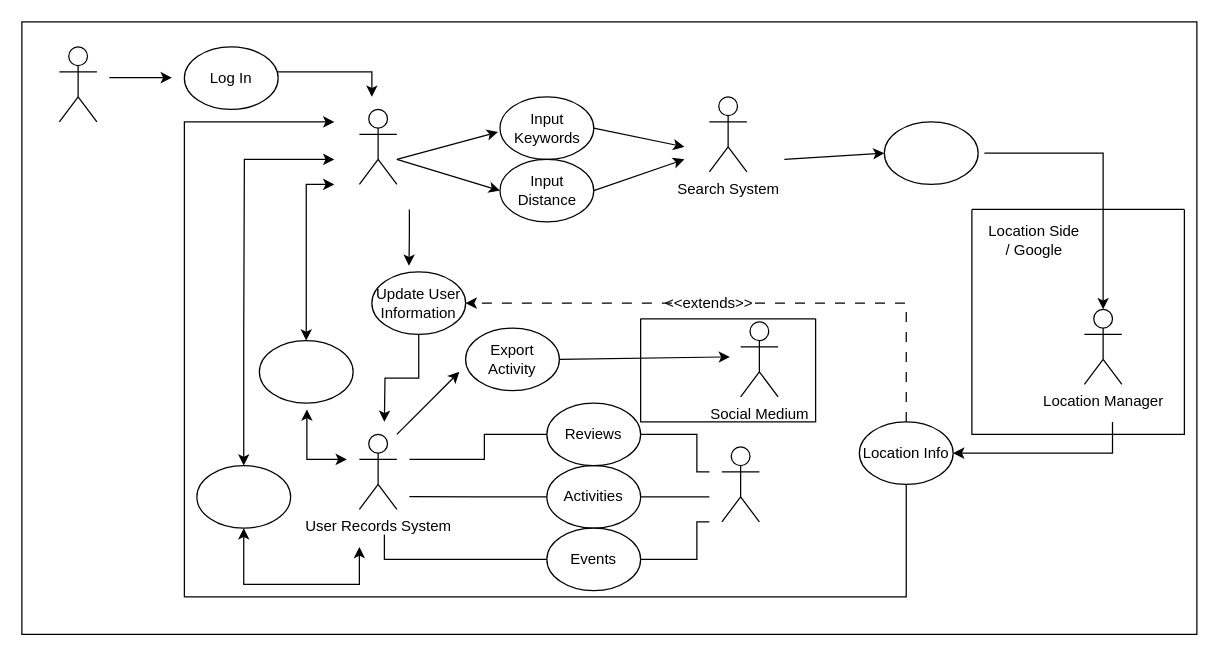
This 1219x656 diagram has some shape labels left out. Here are the shapes that lost their labels. From the top down, the centre of each, then its label:
At point 77,84: "User".
At point 377,146: "User Profile".
At point 930,152: "Get Location(s)".
At point 305,371: "View Records".
At point 727,370: "Other Media".
At point 243,496: "Give Recommen-dation".
At point 740,484: "Admin".
